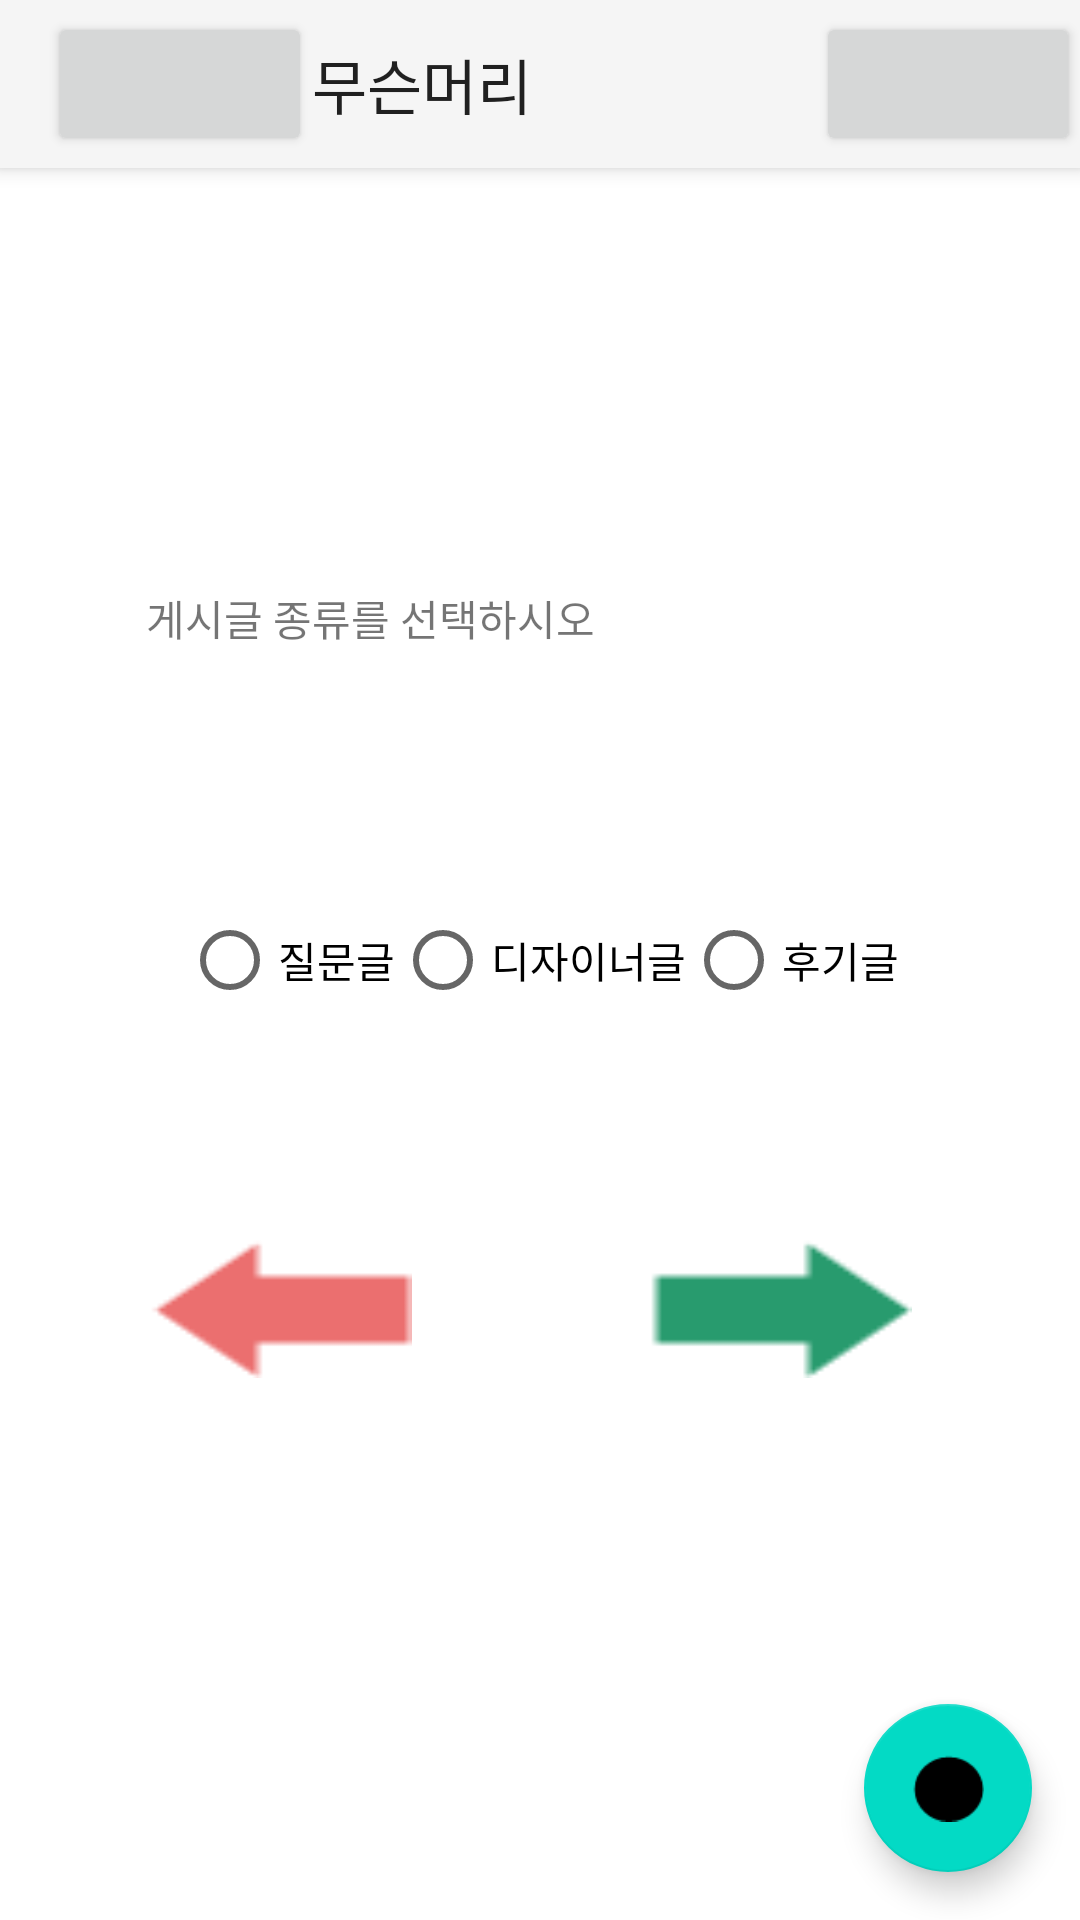

Locate icon controls on the screen. Image size 1080×1920, boxes as (x1, y1, x2, y2).
before: (155, 1244, 412, 1378)
next: (652, 1244, 912, 1378)
